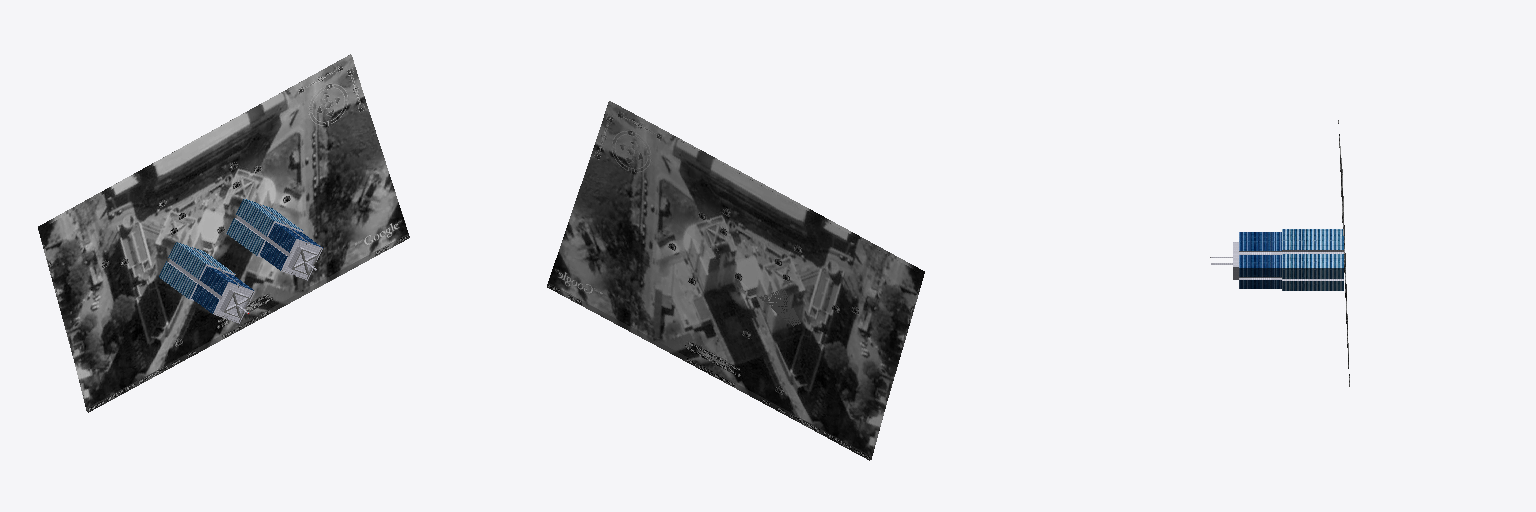
3 views of the same model, side by side, from view 1: azimuth 30°, elevation 25°; view 2: azimuth 150°, elevation 25°; view 3: azimuth 270°, elevation 25° (orthographic).
Visible parts, largest first — view 1: Google Earth Terrain, Google Earth Snapshot, jjjjj; view 2: Google Earth Terrain, Google Earth Snapshot, jjjjj; view 3: jjjjj.
Part boxes in pixels (x1,y1,x2,y2): Google Earth Terrain: (41,55,363,411); Google Earth Snapshot: (38,54,409,412); jjjjj: (159,199,322,323); Google Earth Terrain: (547,101,924,460); Google Earth Snapshot: (596,102,921,459); jjjjj: (710,245,800,326); jjjjj: (1210,229,1343,290).
Size of the model in its own units: 397418 by 300334 by 129725.
7 materials, 5 textured.